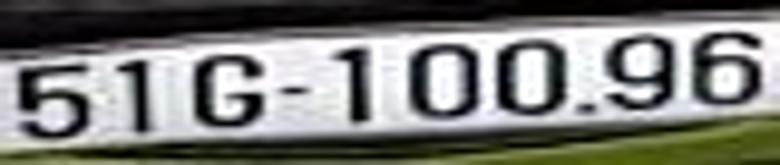-: (278, 79, 310, 101)
.: (576, 103, 595, 118)
0: (497, 42, 567, 114), (414, 45, 478, 118)
1: (326, 47, 373, 122), (115, 60, 154, 134)
5: (18, 64, 91, 141)
6: (690, 32, 762, 103)
9: (606, 39, 673, 110)
G: (192, 54, 261, 127)
